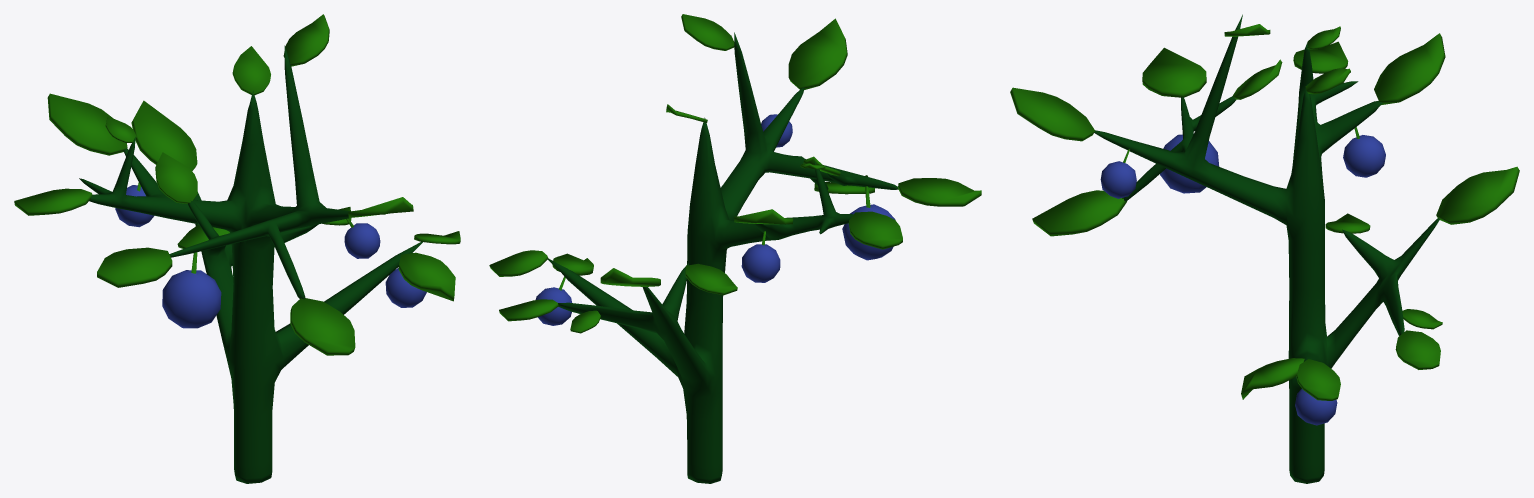
File: BlueBerry.fbx
The picture shows the model from 3 angles, left to right: view 1: azimuth 30°, elevation 25°; view 2: azimuth 150°, elevation 25°; view 3: azimuth 270°, elevation 25°; orthographic projection. The views are drawn at different scales.
Parts seen in each view (by area): view 1: Stem, Leaf, Berries; view 2: Stem, Leaf, Berries; view 3: Stem, Leaf, Berries.
Part boxes in pixels (left/top/right/bottom): Stem: left=79, top=45, right=422, bottom=483; Leaf: left=14, top=14, right=460, bottom=355; Berries: left=115, top=182, right=426, bottom=328; Stem: left=548, top=32, right=898, bottom=483; Leaf: left=489, top=14, right=981, bottom=333; Berries: left=535, top=114, right=895, bottom=325; Stem: left=1094, top=14, right=1439, bottom=483; Leaf: left=1010, top=24, right=1519, bottom=400; Berries: left=1100, top=127, right=1385, bottom=425.
Bounding box in the file's own units: 406 × 409 × 397.
